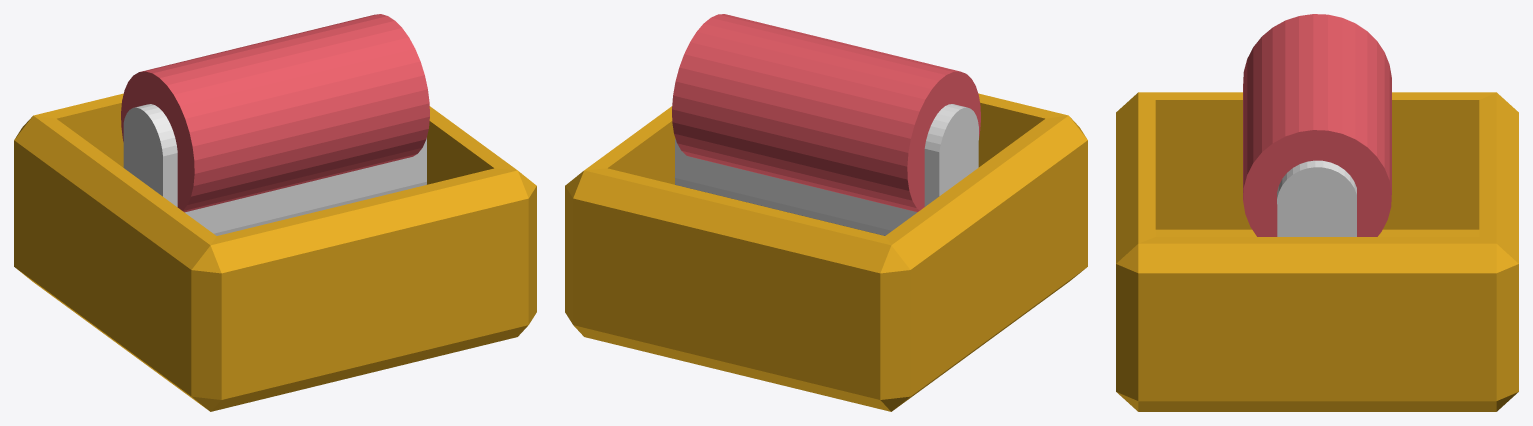
The model's file is Gear_B.fbx.
3 renders of one model, left to right at view 1: azimuth 30°, elevation 25°; view 2: azimuth 150°, elevation 25°; view 3: azimuth 270°, elevation 25°, orthographic.
Visible parts, largest first — view 1: Cube; view 2: Cube; view 3: Cube.
Part boxes in pixels (x1,y1,x2,y2): Cube: (14,14,536,411); Cube: (565,14,1087,411); Cube: (1116,14,1518,411).
Size of the model in its own units: 200 by 145 by 200.
